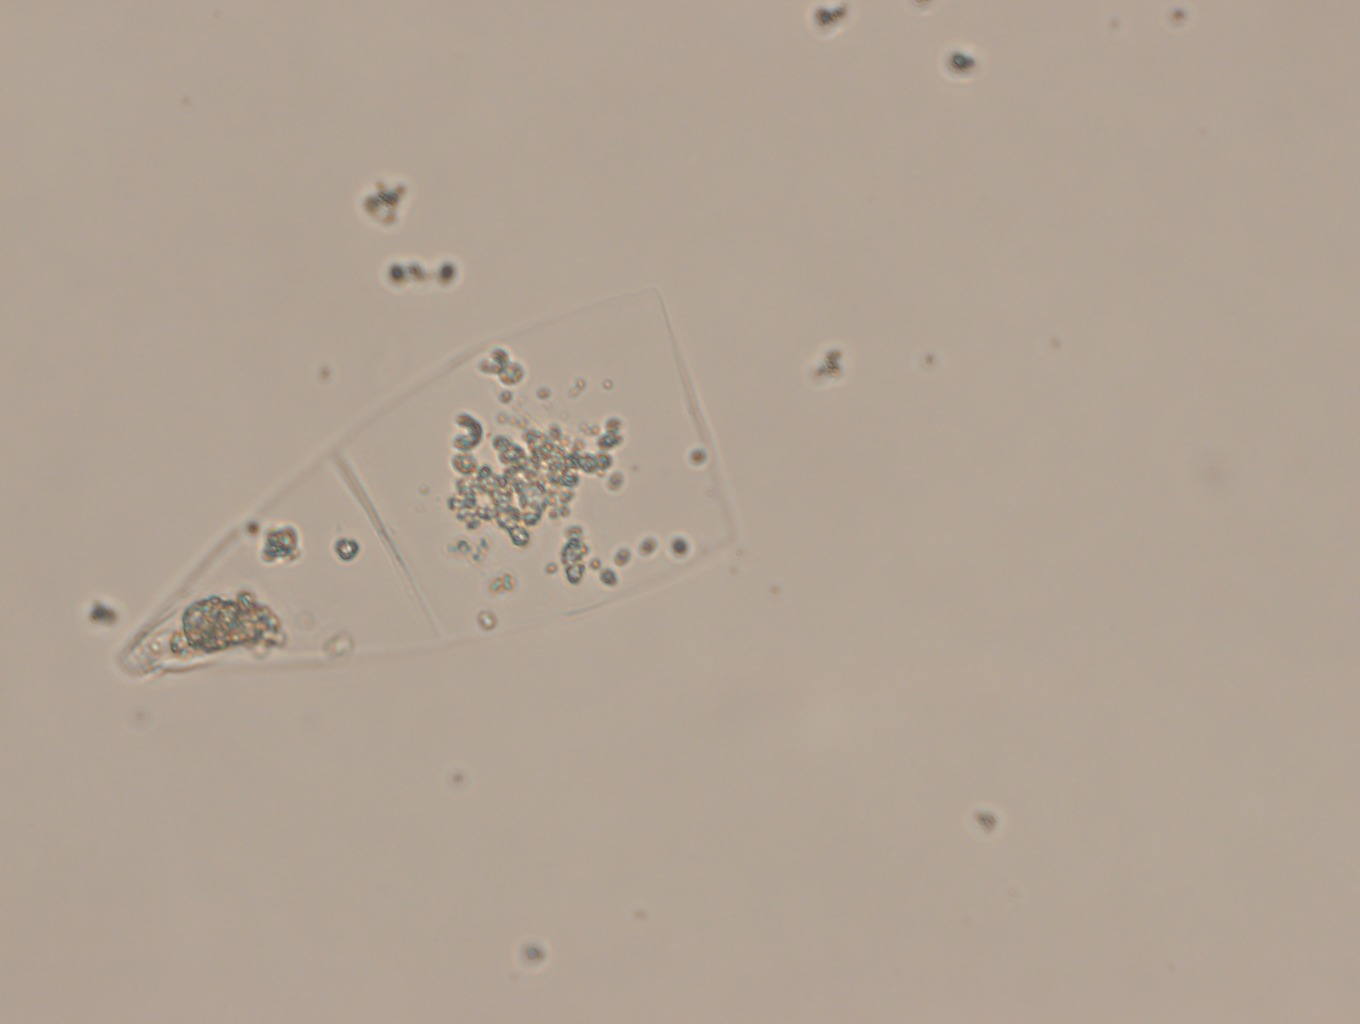helicotheca: (113, 276, 771, 672)
